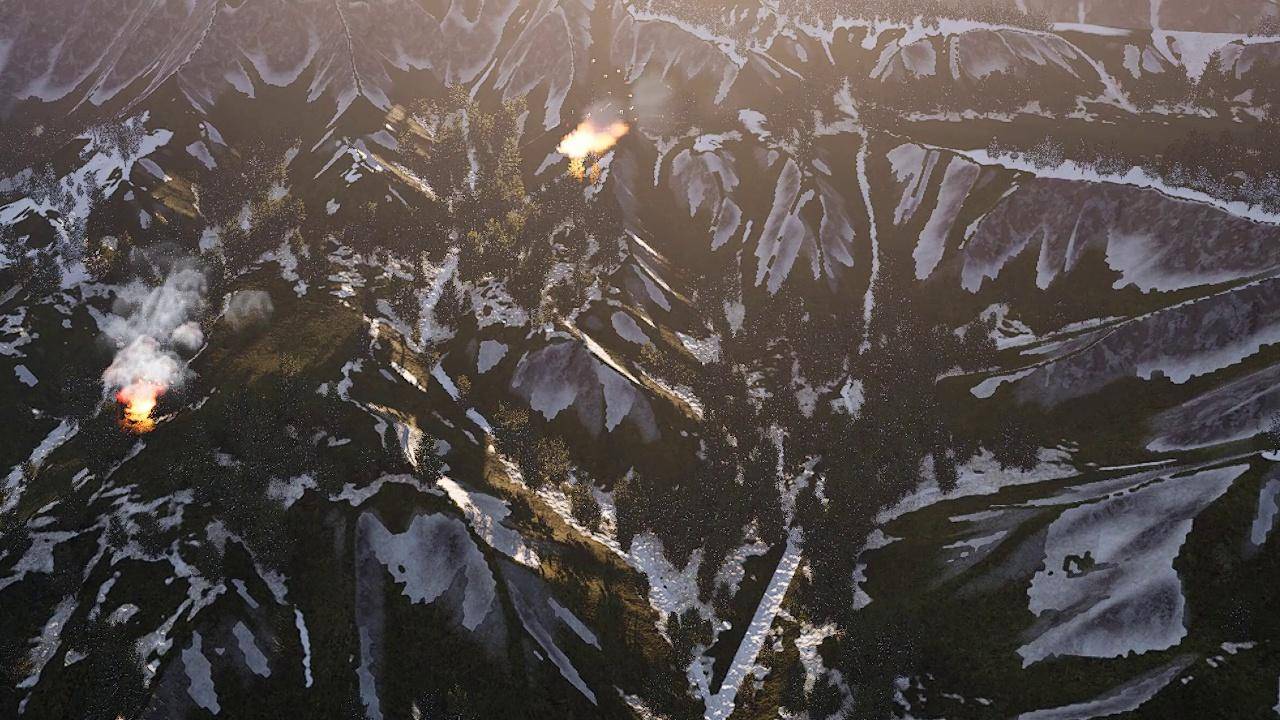fire: (558, 121, 622, 161), (122, 387, 161, 424)
smoke: (91, 259, 272, 398), (586, 70, 684, 125)
